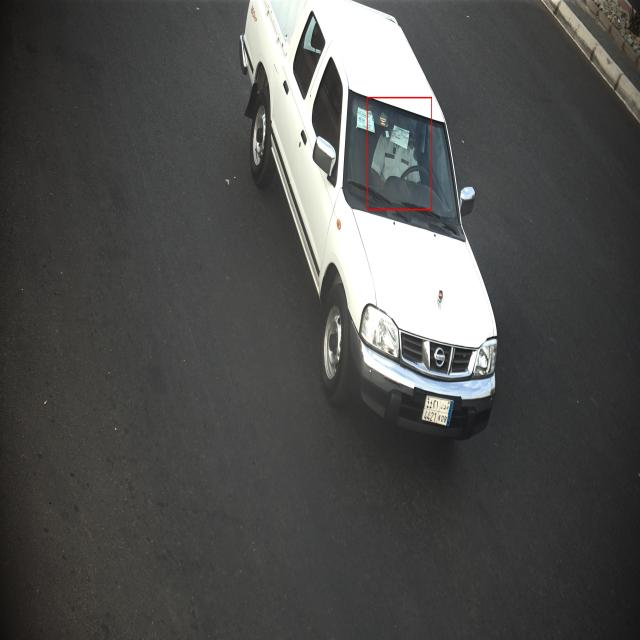windshield: (342, 84, 463, 244)
